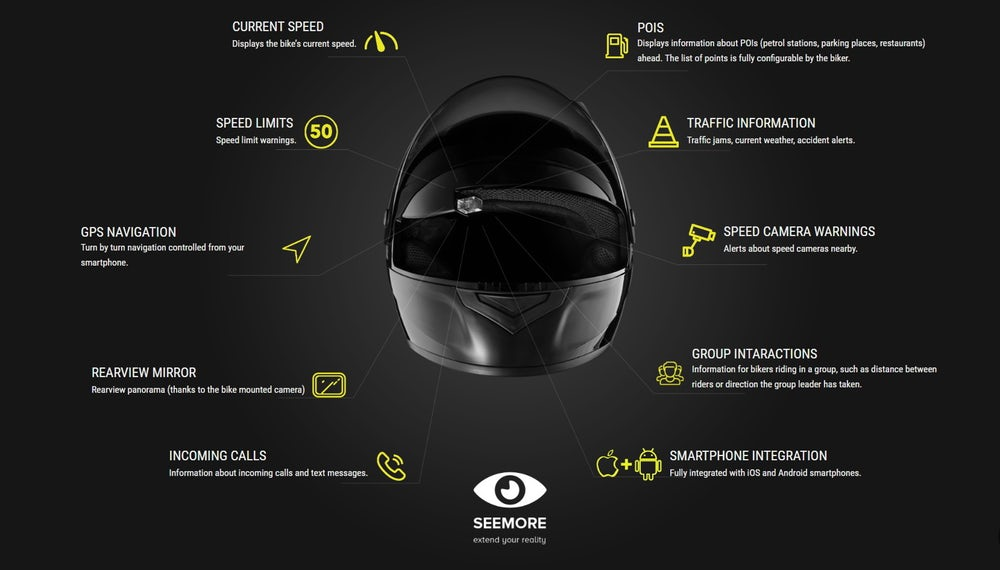with_helmet: (372, 67, 644, 382)
